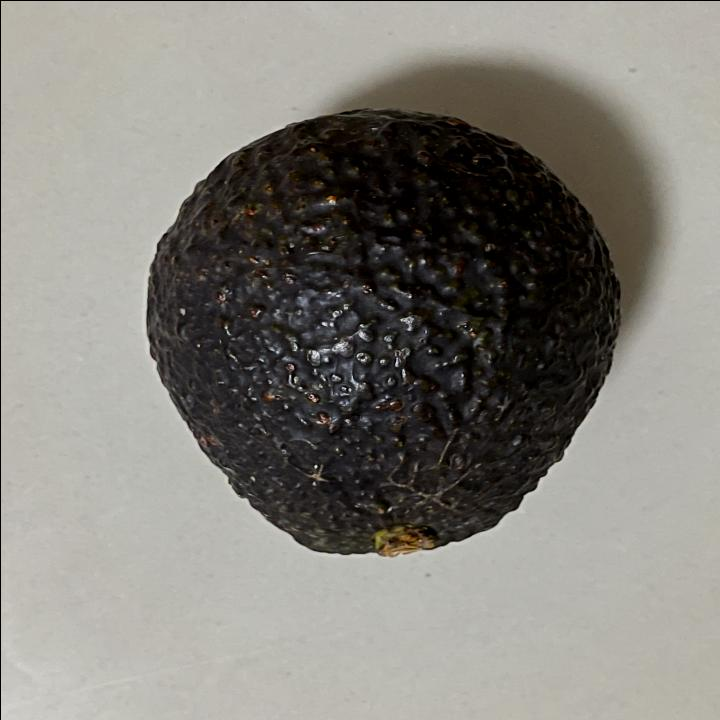Level1: (126, 92, 644, 584)
